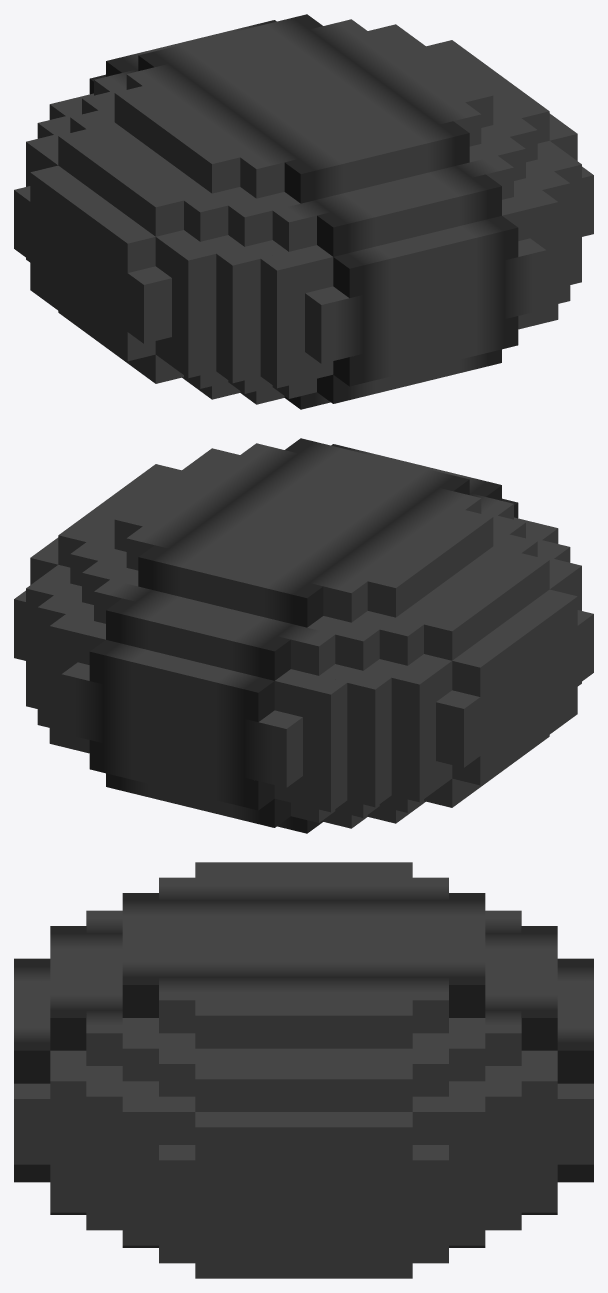
The model's file is Turret.fbx.
The picture shows the model from 3 angles, top to bottom: view 1: azimuth 30°, elevation 25°; view 2: azimuth 150°, elevation 25°; view 3: azimuth 270°, elevation 25°; orthographic projection. The views are drawn at different scales.
Parts seen in each view (by area): view 1: Matrix; view 2: Matrix; view 3: Matrix.
Part boxes in pixels (x1=…): Matrix: x1=14, y1=14, x2=593, y2=409; Matrix: x1=14, y1=438, x2=593, y2=833; Matrix: x1=14, y1=862, x2=593, y2=1278.
Size of the model in its own units: 16 by 8 by 16.
1 material, 1 textured.
